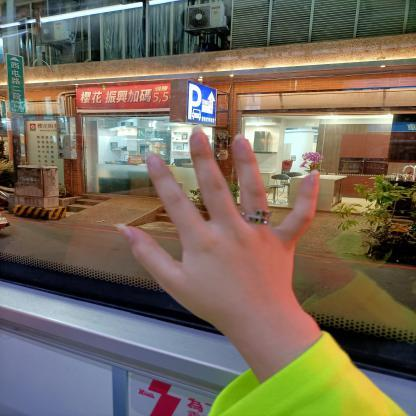bare_hand: (112, 118, 330, 354)
